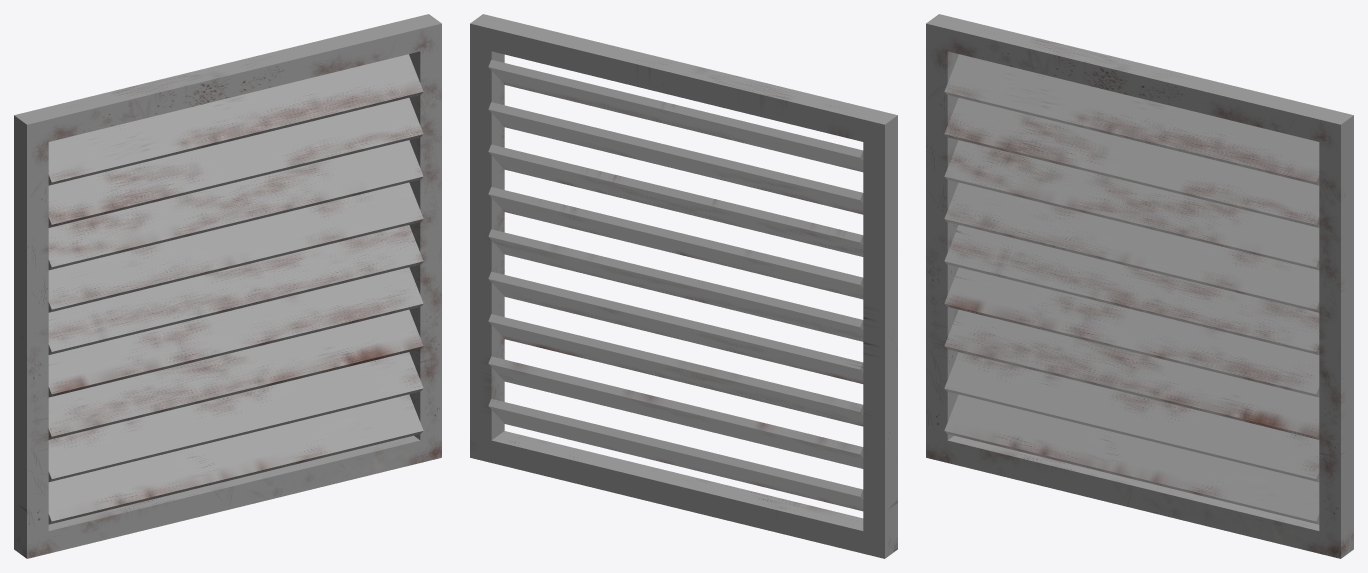
The model's file is Vent 3D Model.glb.
3 views of the same model, side by side, from view 1: azimuth 30°, elevation 25°; view 2: azimuth 150°, elevation 25°; view 3: azimuth 330°, elevation 25° (orthographic).
Visible parts, largest first — view 1: Object_6; view 2: Object_6; view 3: Object_6.
Boxes of the visible parts, x1,y1,x2,y2 form: Object_6: (14, 14, 441, 558); Object_6: (470, 14, 897, 558); Object_6: (926, 14, 1353, 558).
Size of the model in its own units: 100 by 100 by 8.16.
1 material, 1 textured.
